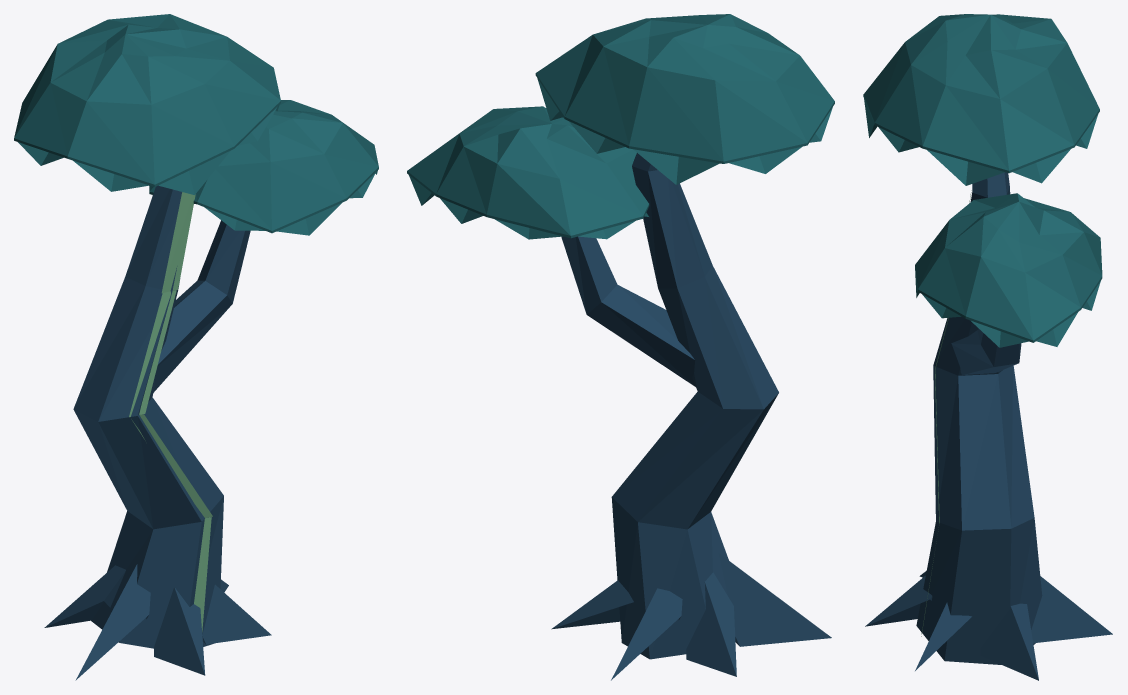
3 renders of one model, left to right at view 1: azimuth 30°, elevation 25°; view 2: azimuth 150°, elevation 25°; view 3: azimuth 270°, elevation 25°, orthographic. The views are drawn at different scales.
Parts seen in each view (by area): view 1: 复用森林树_2.001; view 2: 复用森林树_2.001; view 3: 复用森林树_2.001.
Boxes of the visible parts, left/top/right/bottom form: 复用森林树_2.001: left=14, top=14, right=378, bottom=680; 复用森林树_2.001: left=407, top=14, right=834, bottom=680; 复用森林树_2.001: left=863, top=14, right=1112, bottom=680.
Bounding box in the file's own units: 0.5042 × 0.7858 × 0.2897.
